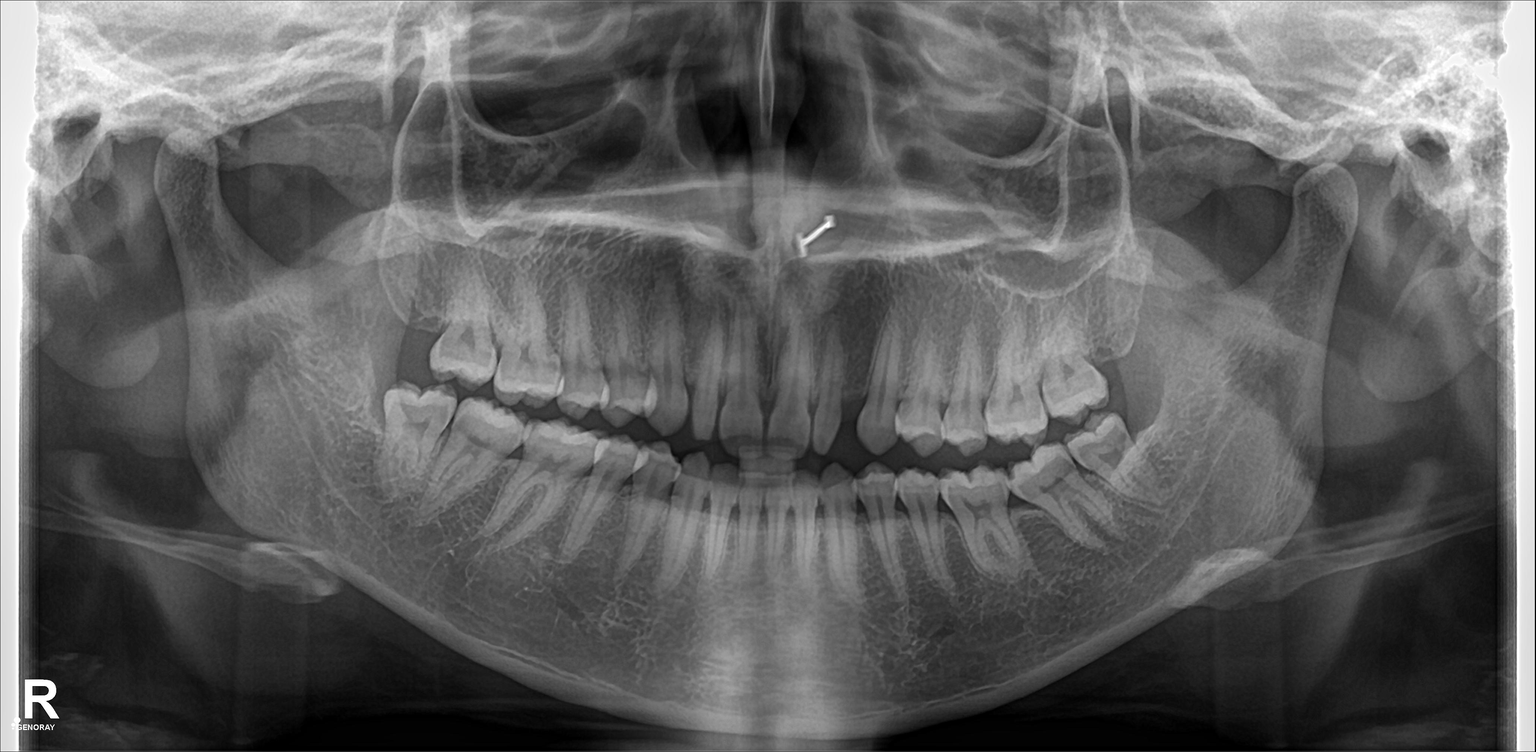Dental Caries: (1088, 441, 1128, 468)
Impacted Third Molar: (1071, 423, 1165, 496)
Missing Tooth: (384, 285, 439, 375), (1099, 307, 1155, 389), (842, 329, 869, 438)
